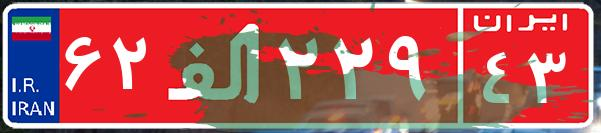2: (273, 28, 330, 110), (330, 28, 385, 110), (110, 28, 158, 105)
3: (525, 38, 570, 115)
4: (475, 38, 525, 113)
6: (57, 26, 110, 107)
9: (385, 28, 445, 110)
الف: (158, 15, 273, 115)
